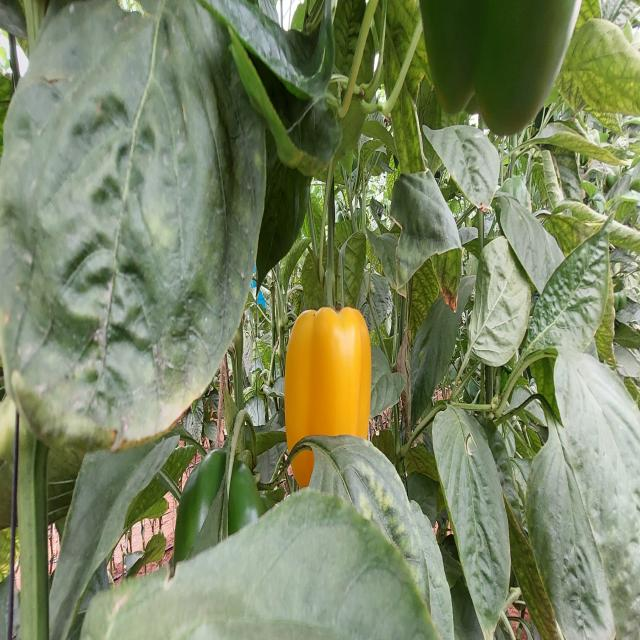Yellow-Ready-to-Harvest: (286, 312, 376, 494)
